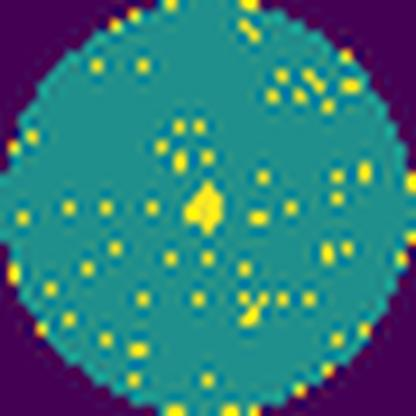Center: (178, 176, 231, 243)
